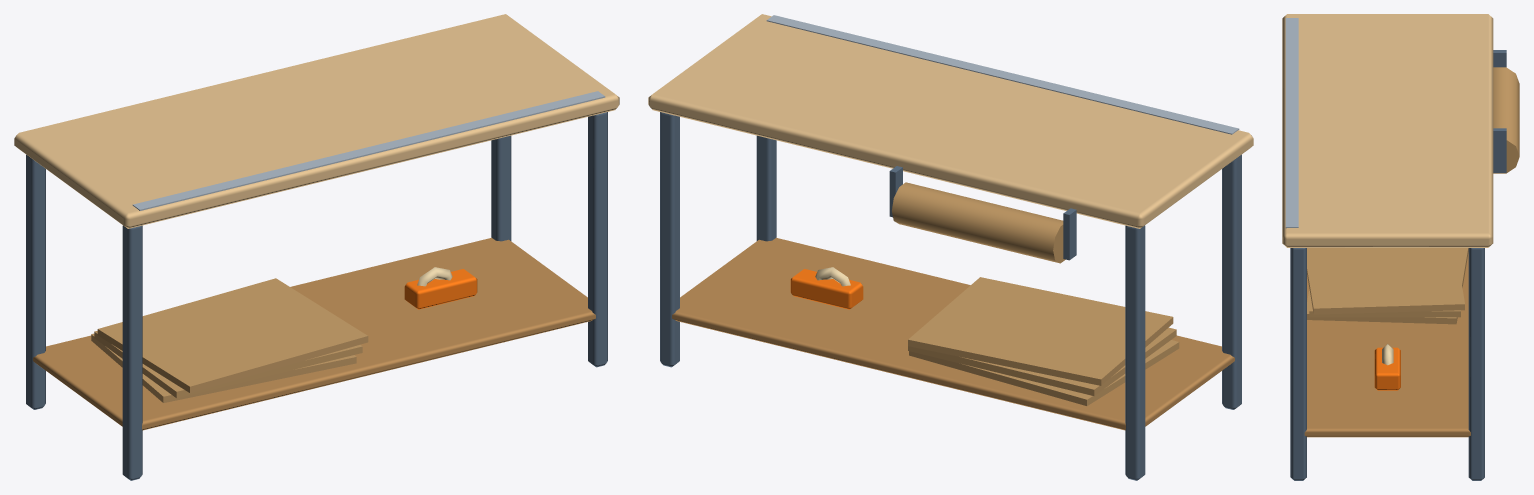
File: station_processing_basis.glb
The picture shows the model from 3 angles, left to right: view 1: azimuth 30°, elevation 25°; view 2: azimuth 150°, elevation 25°; view 3: azimuth 270°, elevation 25°; orthographic projection. The views are drawn at different scales.
Parts seen in each view (by area): view 1: station_processing_basis; view 2: station_processing_basis; view 3: station_processing_basis.
Boxes of the visible parts, <box> form: station_processing_basis: <box>14,14,619,480</box>; station_processing_basis: <box>648,14,1253,480</box>; station_processing_basis: <box>1282,14,1519,480</box>.
Size of the model in its own units: 1.6 by 0.843 by 0.72.
